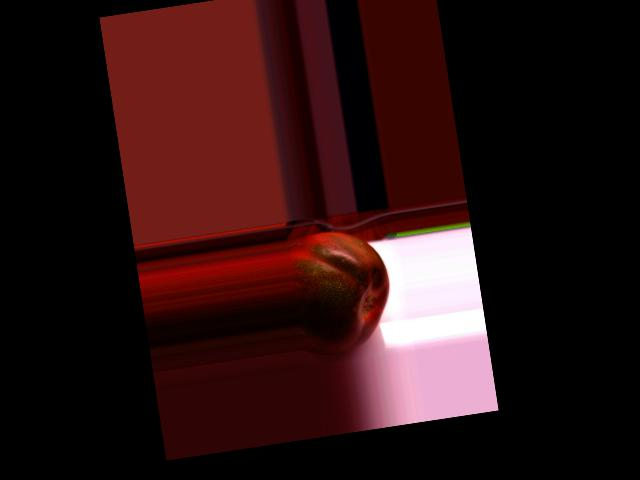tomato: (286, 223, 398, 358)
